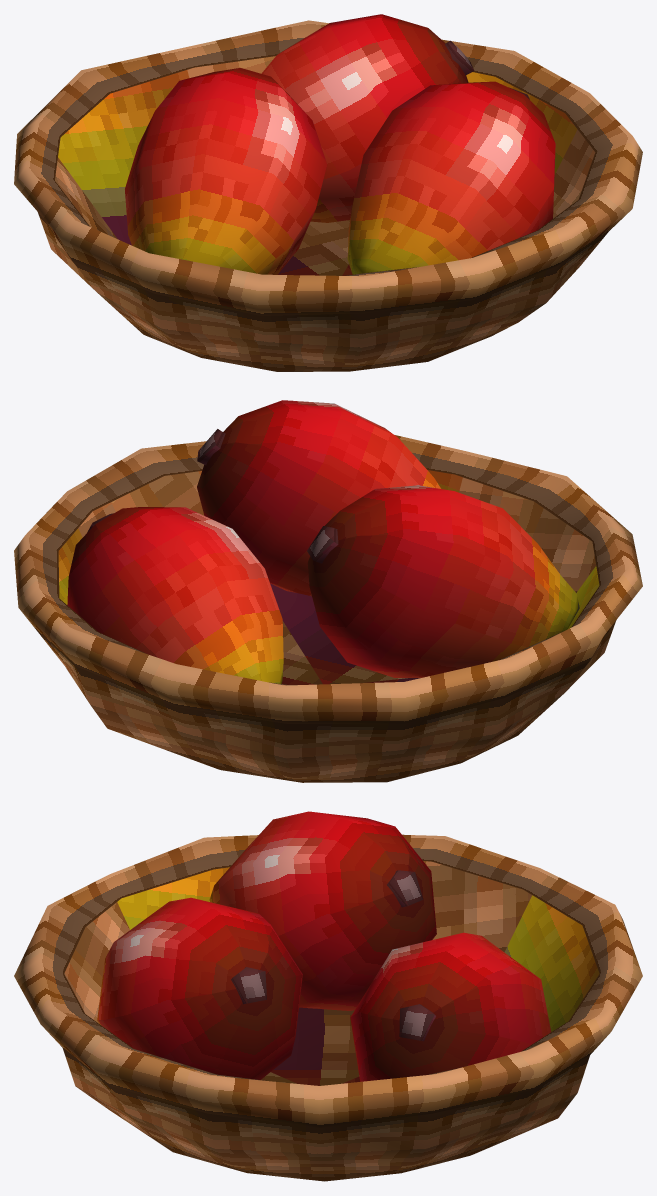
File: int_fru_mango.dae
3 renders of one model, top to bottom at view 1: azimuth 30°, elevation 25°; view 2: azimuth 150°, elevation 25°; view 3: azimuth 270°, elevation 25°, orthographic.
Parts seen in each view (by area): view 1: int_fru_mango; view 2: int_fru_mango; view 3: int_fru_mango.
Part boxes in pixels (left/top/right/bottom): int_fru_mango: left=14, top=14, right=642, bottom=371; int_fru_mango: left=14, top=400, right=642, bottom=782; int_fru_mango: left=14, top=811, right=642, bottom=1181.
Bounding box in the file's own units: 28.3 × 11.3 × 28.27.
1 material, 1 textured.
